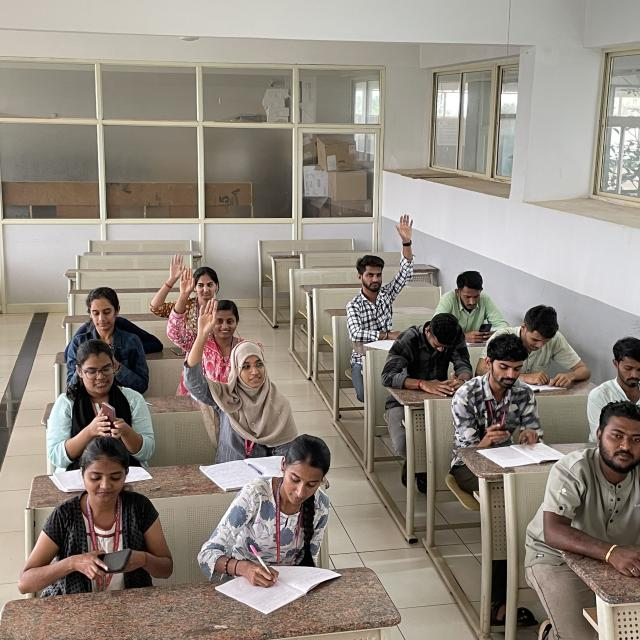Hand Rising: (172, 298, 316, 448), (325, 215, 429, 337), (171, 268, 266, 362), (140, 251, 238, 306)
Reading: (493, 309, 596, 392)
Sleeping: (75, 301, 170, 349)
Using Phone: (34, 444, 160, 582), (46, 353, 162, 451), (456, 348, 553, 440), (425, 256, 522, 346)
Writing: (209, 430, 379, 620)
